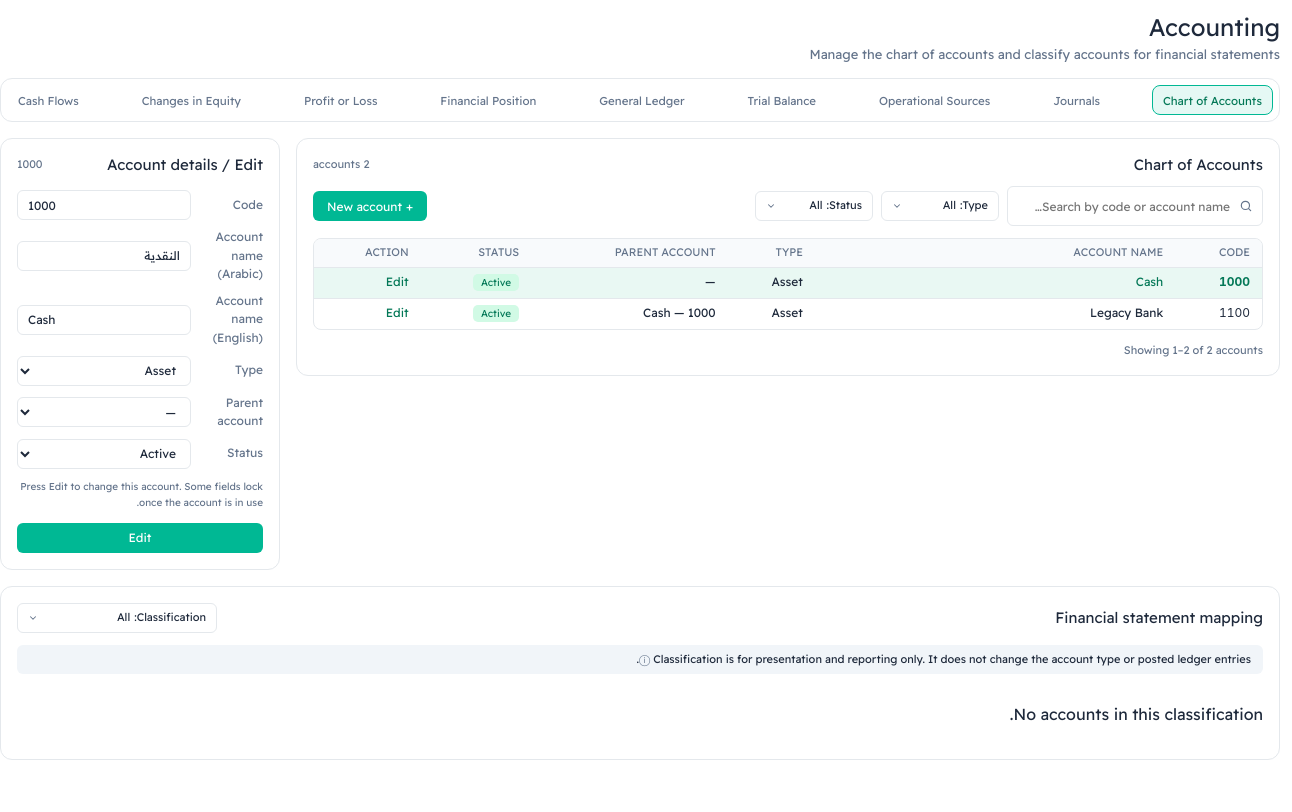
bilingual account names › shows English names in the English UI and searches across code, name, name_ar and name_en
Expected: the text "Cash" is shown, [815,267,1175,298]
Type "النقد" into the search field.
click(1135, 206); type("النقد")  # box [1007,186,1263,226]
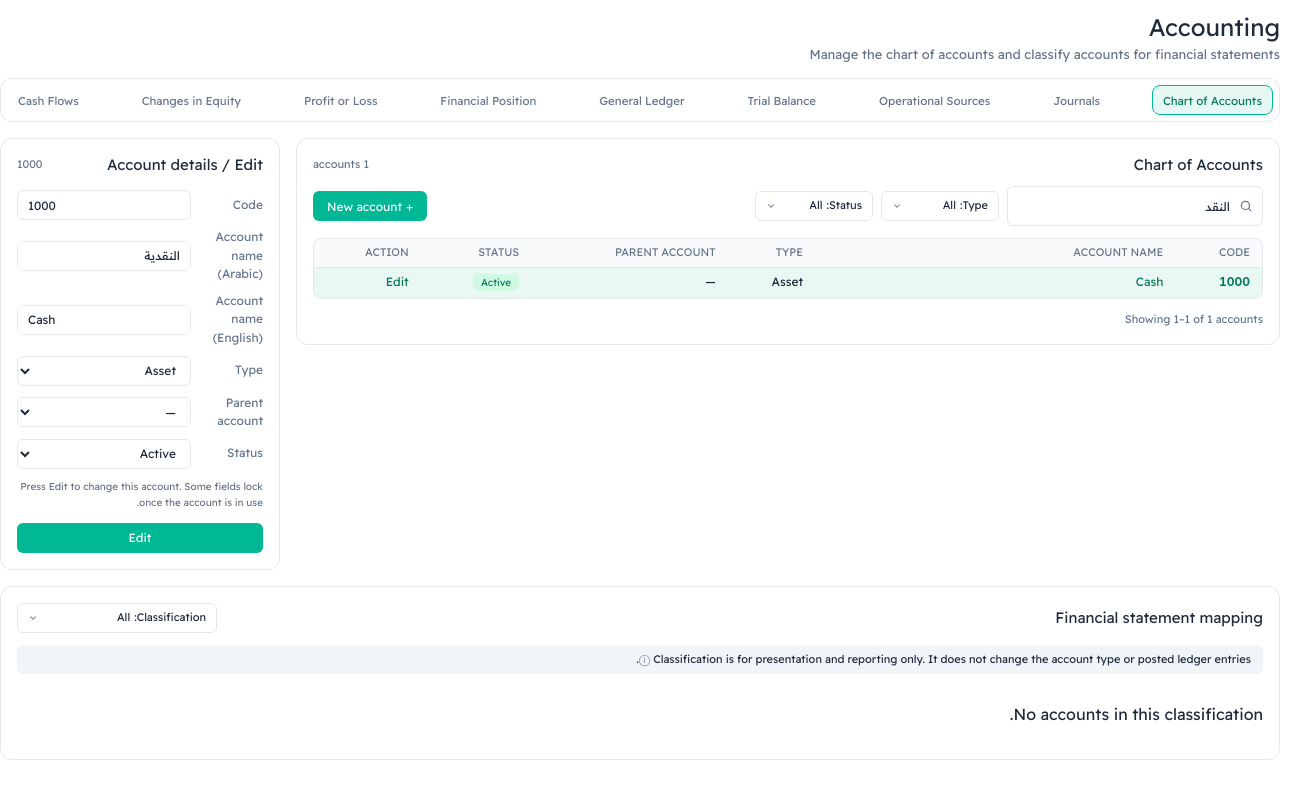
Expected: the text "Cash" is shown, [815,267,1175,298]
Expected: the text "Legacy Bank" is gone
Replace the text in the search field with "legacy" at (1135, 206), box [1007,186,1263,226]
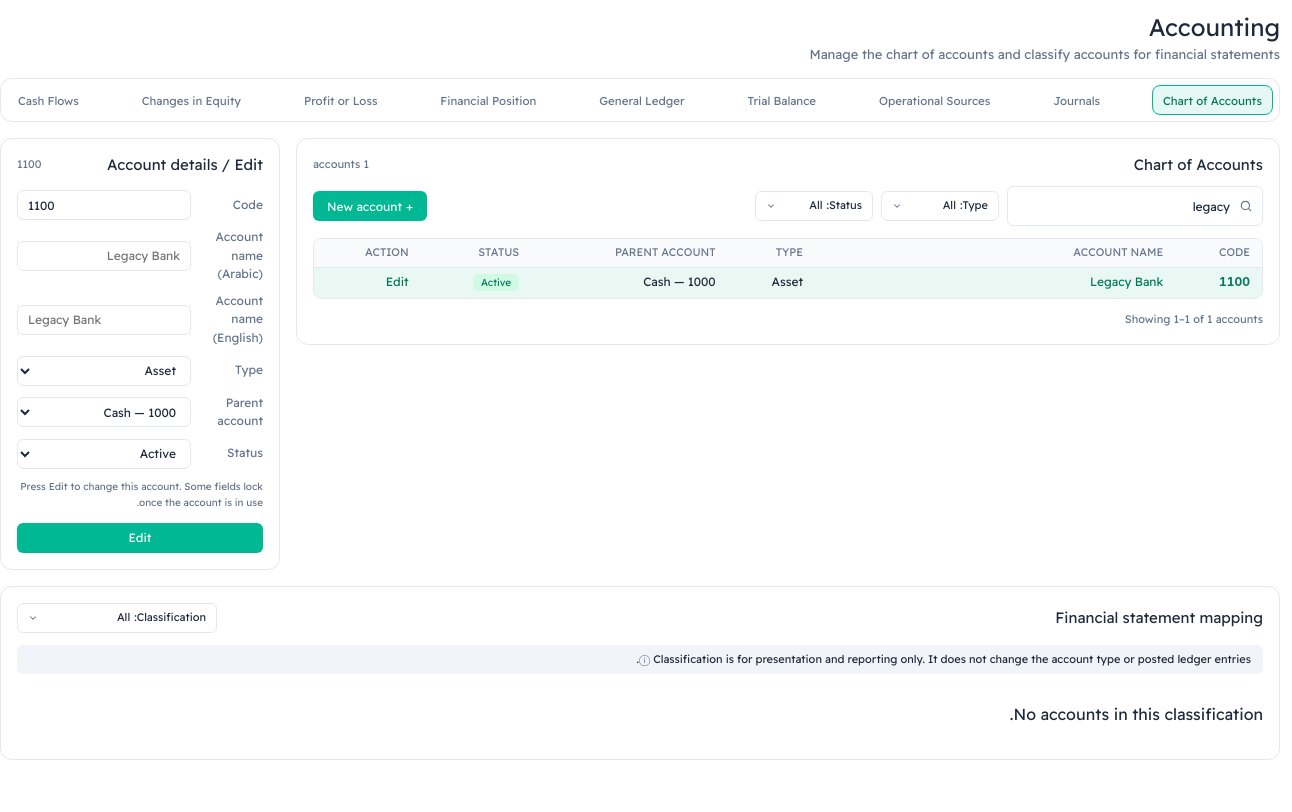
Expected: the text "Legacy Bank" is shown, [815,267,1175,298]
